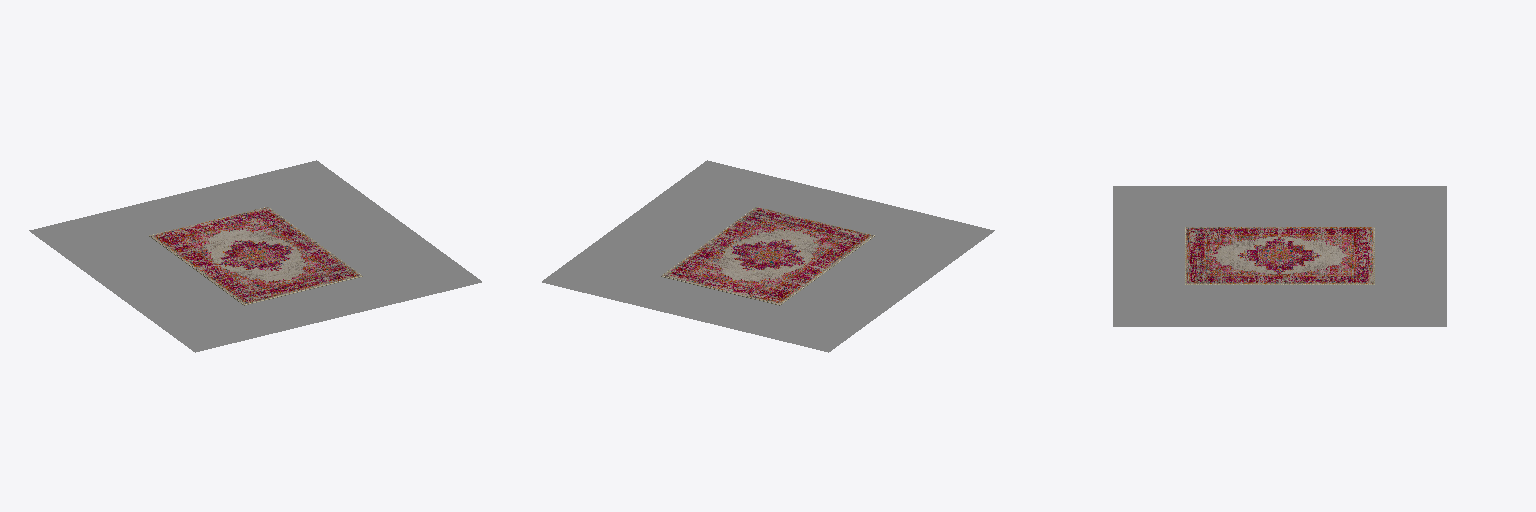
The picture shows the model from 3 angles: view 1: azimuth 30°, elevation 25°; view 2: azimuth 150°, elevation 25°; view 3: azimuth 270°, elevation 25°; orthographic projection.
Parts seen in each view (by area): view 1: shadow_plane_v6, not_clear_obj_0_v6; view 2: shadow_plane_v6, not_clear_obj_0_v6; view 3: shadow_plane_v6, not_clear_obj_0_v6.
Boxes of the visible parts, x1=… form: shadow_plane_v6: x1=29, y1=160, x2=481, y2=352; not_clear_obj_0_v6: x1=150, y1=207, x2=361, y2=303; shadow_plane_v6: x1=542, y1=160, x2=994, y2=352; not_clear_obj_0_v6: x1=662, y1=207, x2=873, y2=303; shadow_plane_v6: x1=1113, y1=186, x2=1446, y2=326; not_clear_obj_0_v6: x1=1186, y1=227, x2=1373, y2=283.
Bounding box in the file's own units: 387 × 1.27 × 387.
3 materials, 2 textured.